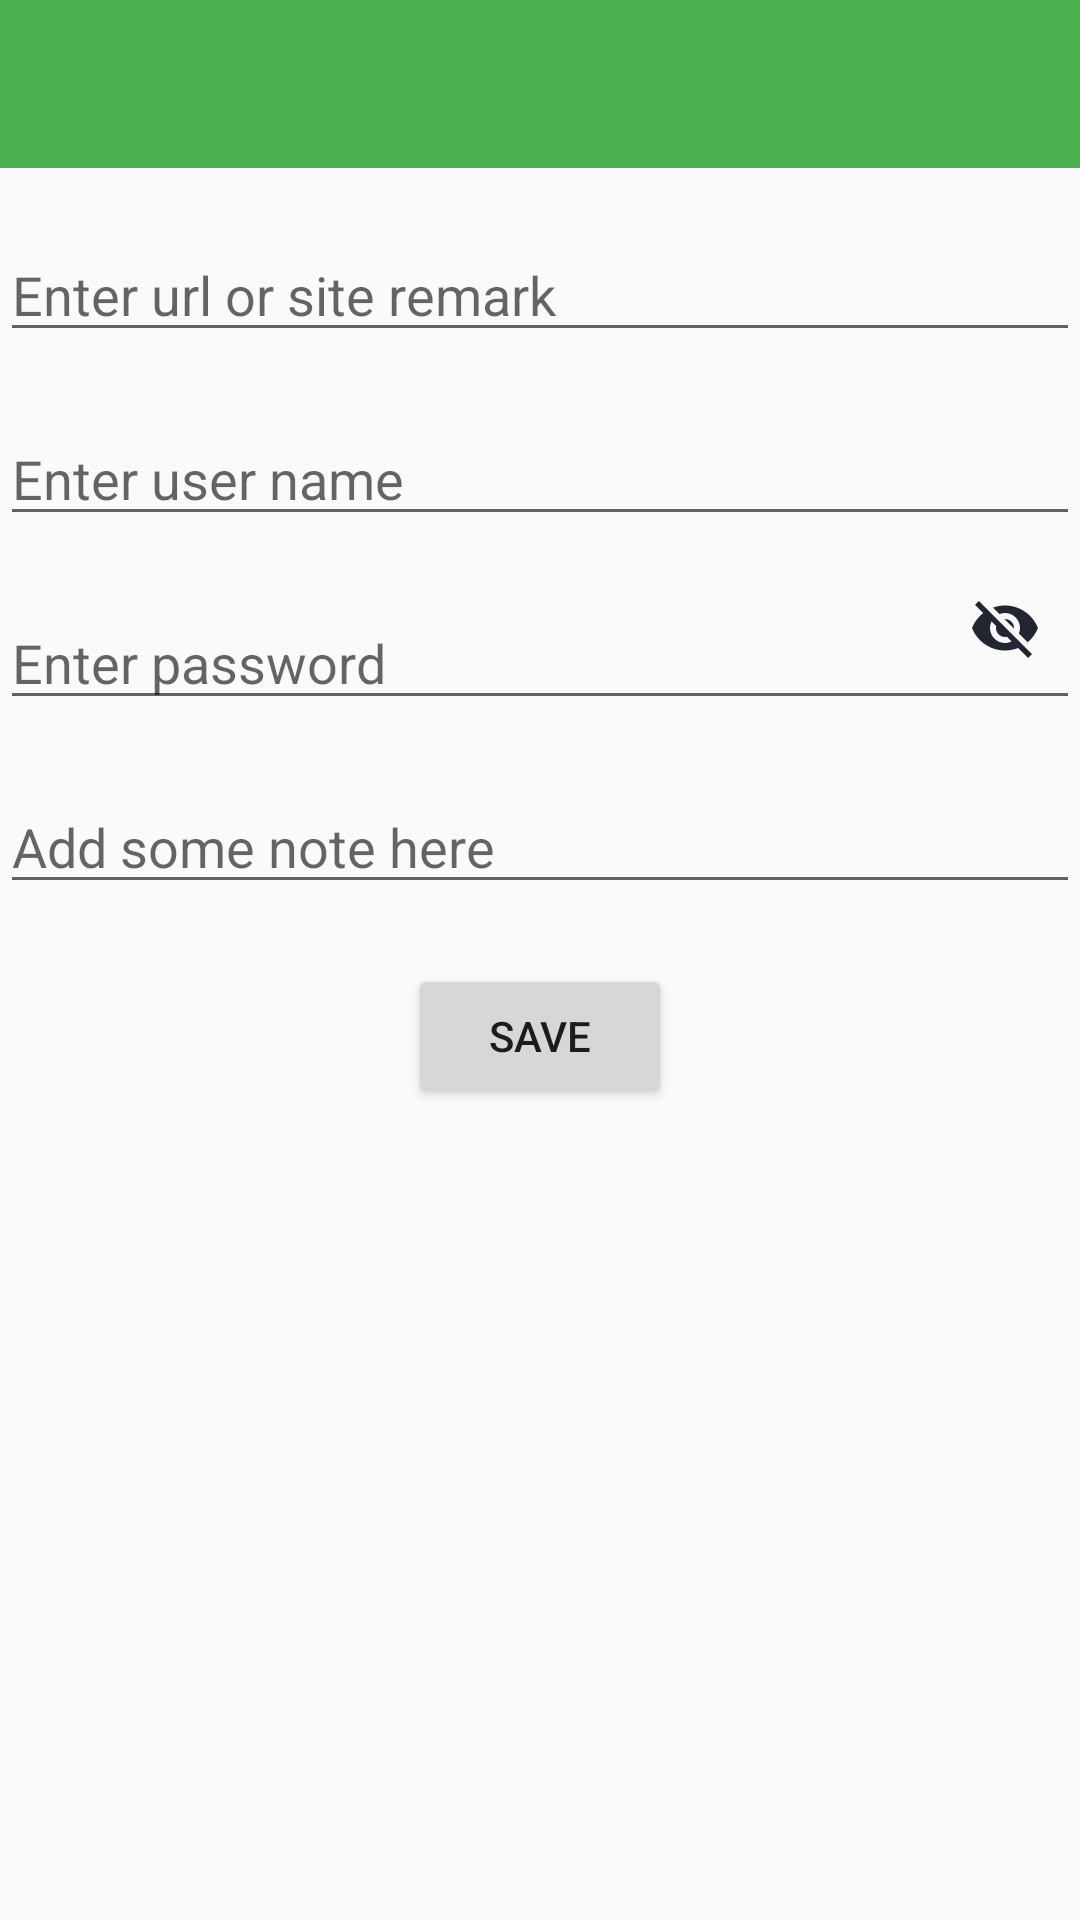

Icon bounding boxes for this 1080×1920 phone screenshot, format [left=x1, top=y1, right=x2, bottom=y2]:
visibility off: [left=972, top=601, right=1038, bottom=658]
